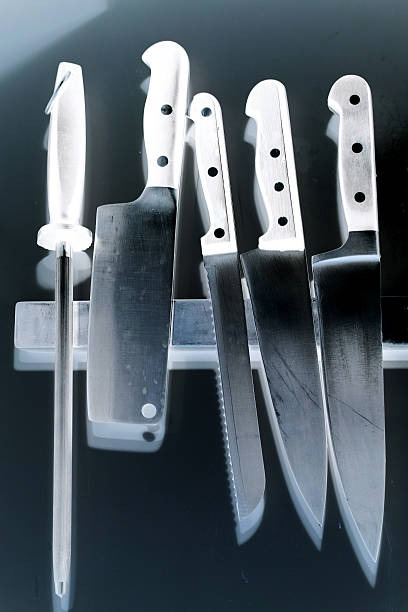knife: (242, 57, 356, 545), (90, 28, 182, 468), (30, 55, 98, 607), (326, 71, 392, 587)
